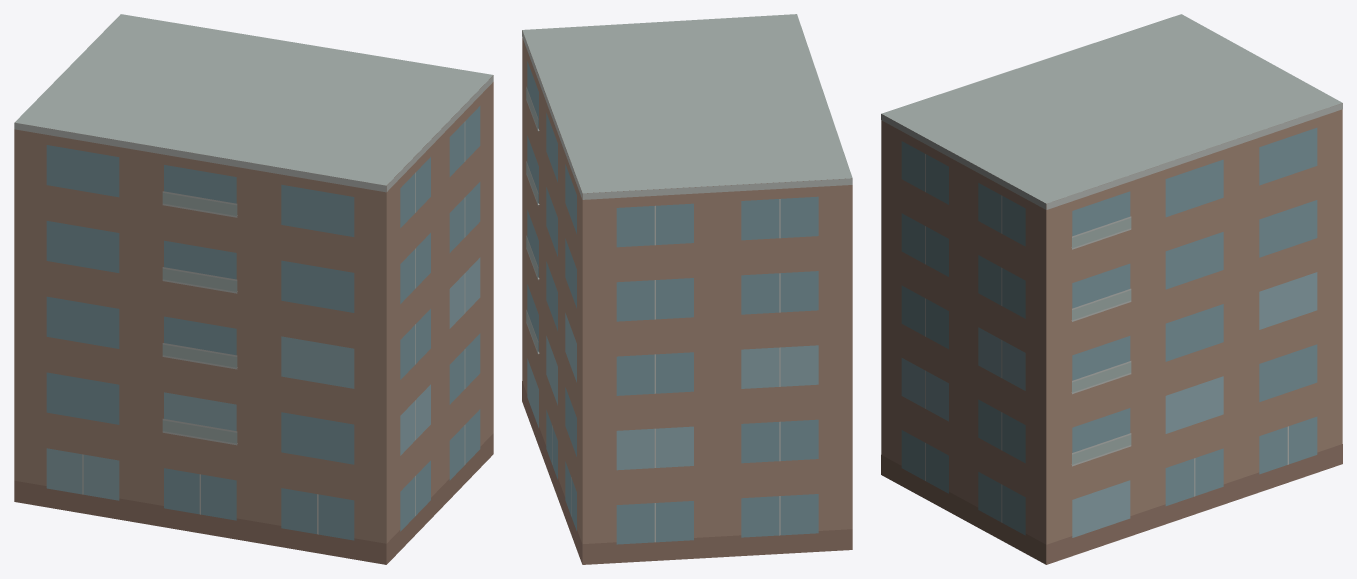
The model's file is survey-upis-32972679.glb.
3 views of the same model, side by side, from view 1: azimuth 30°, elevation 25°; view 2: azimuth 150°, elevation 25°; view 3: azimuth 270°, elevation 25° (orthographic). The views are drawn at different scales.
Visible parts, largest first — view 1: survey-upis-32972679.tmp; view 2: survey-upis-32972679.tmp; view 3: survey-upis-32972679.tmp.
Boxes of the visible parts, x1,y1,x2,y2 form: survey-upis-32972679.tmp: (14, 14, 493, 564); survey-upis-32972679.tmp: (522, 14, 852, 564); survey-upis-32972679.tmp: (881, 14, 1342, 564).
Bounding box in the file's own units: 15.55 × 13.8 × 15.99.
